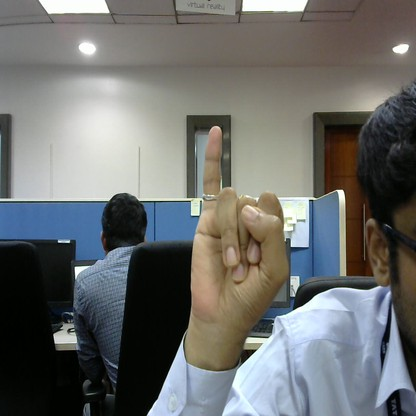i: (187, 122, 286, 328)
